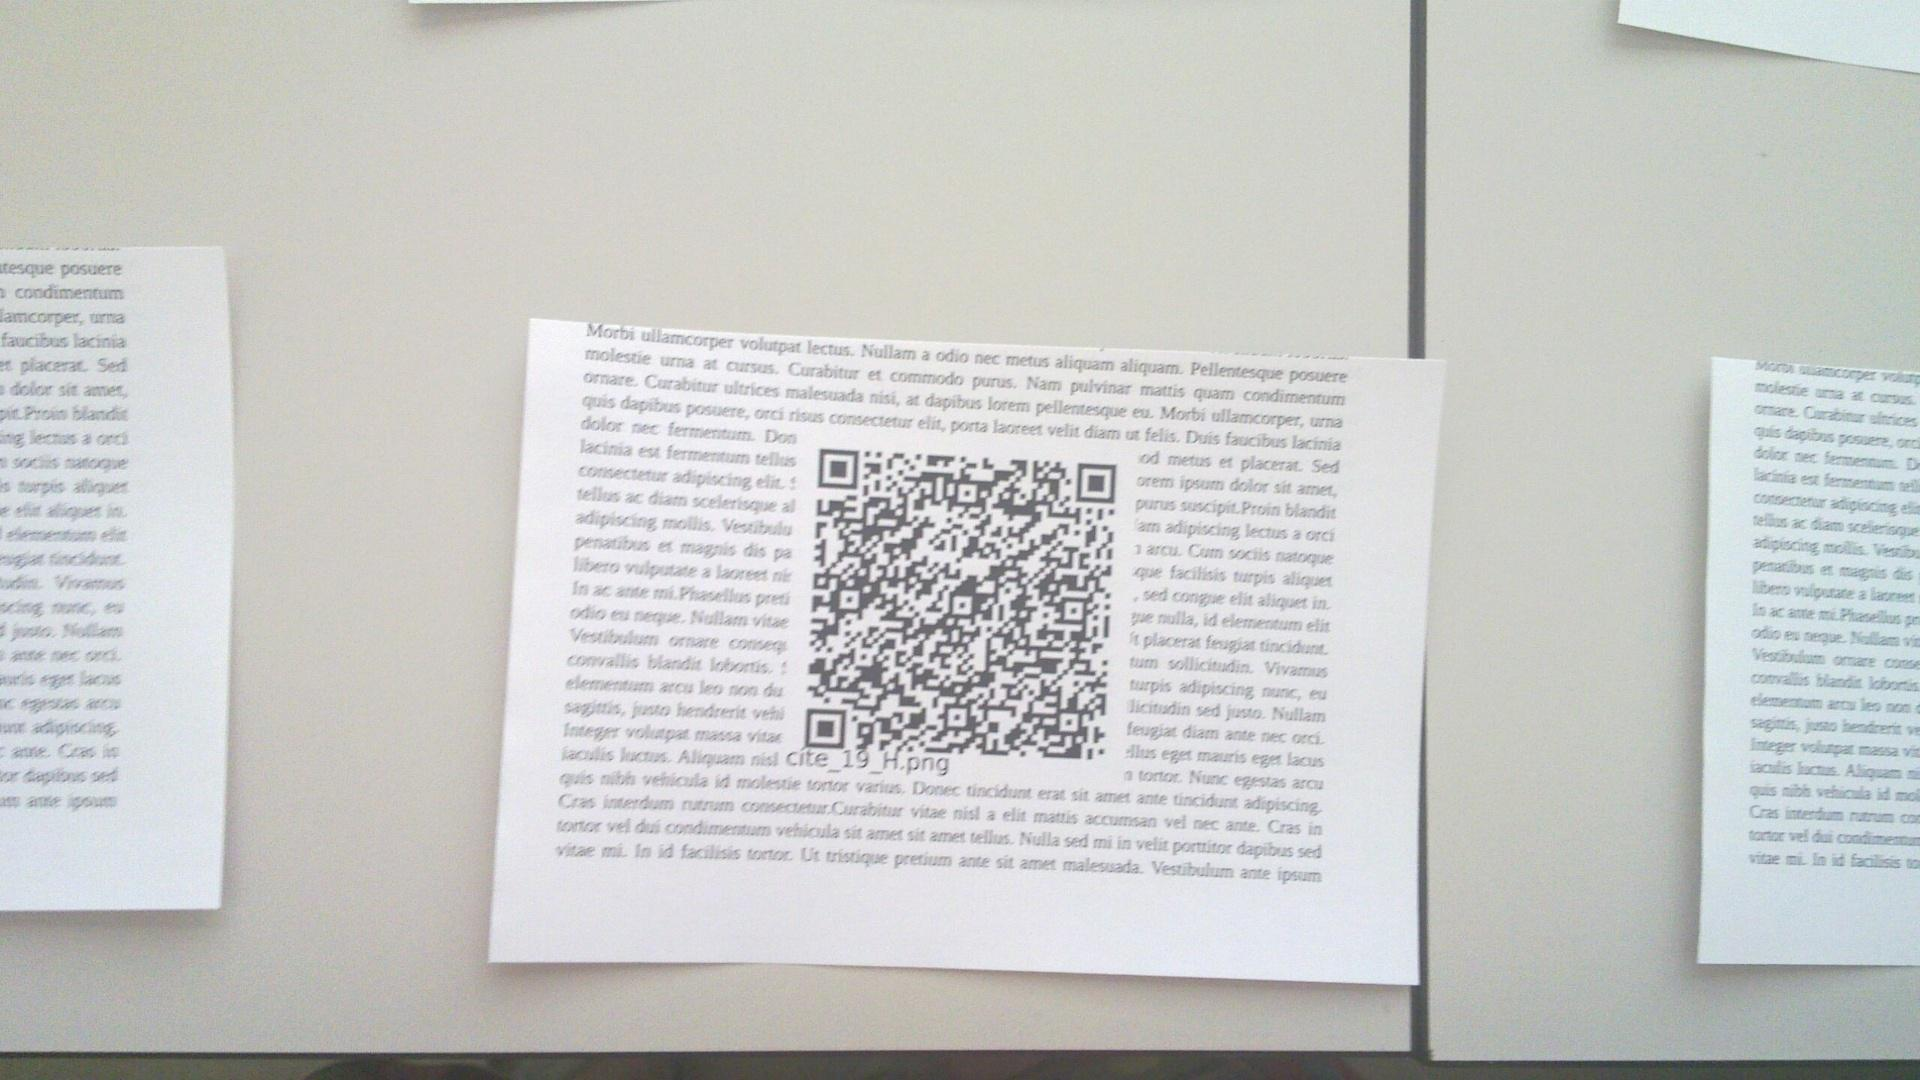Finder pattern: (800, 702, 853, 757), (1071, 455, 1121, 508), (812, 443, 862, 491)
